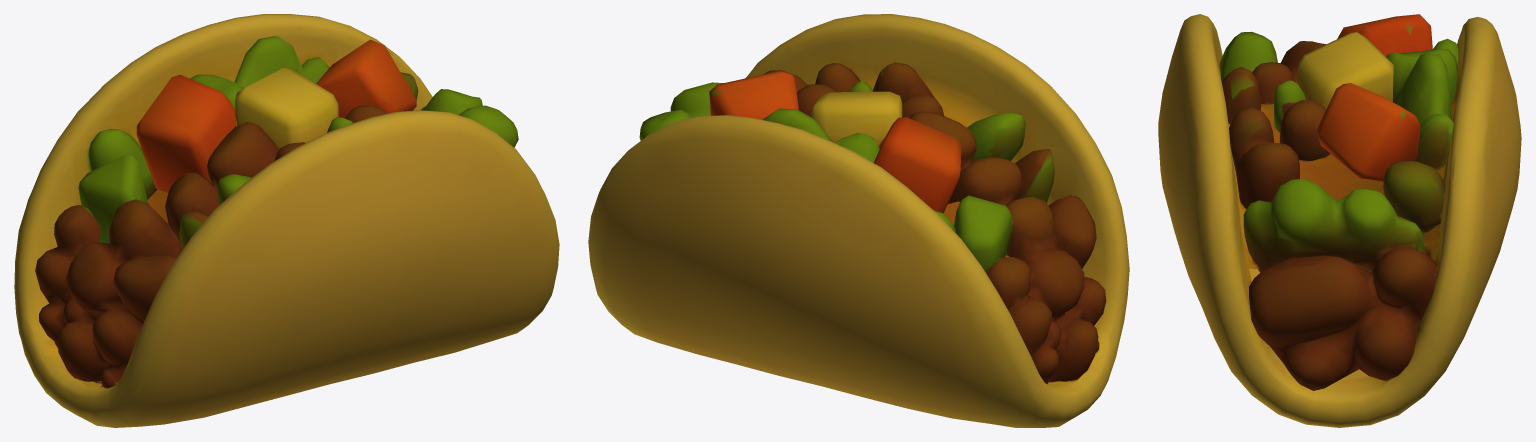
File: Cartoon Taco Filled With Beans.glb
3 renders of one model, left to right at view 1: azimuth 30°, elevation 25°; view 2: azimuth 150°, elevation 25°; view 3: azimuth 270°, elevation 25°, orthographic.
Visible parts, largest first — view 1: pb_node; view 2: pb_node; view 3: pb_node.
Boxes of the visible parts, x1,y1,x2,y2 form: pb_node: [14, 14, 559, 427]; pb_node: [588, 14, 1129, 427]; pb_node: [1158, 14, 1521, 427].
Bounding box in the file's own units: 0.998 × 0.6191 × 0.6816.
Materials: 1 (1 with a texture image).
